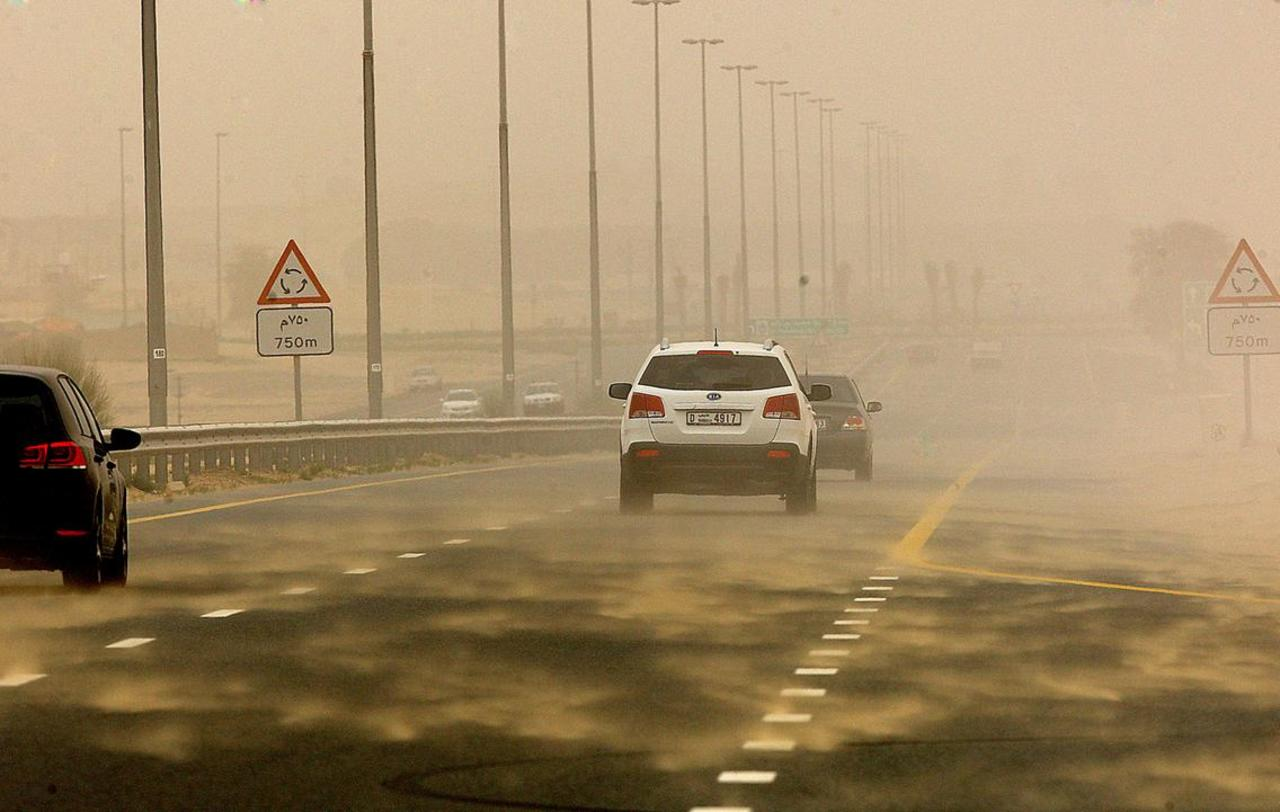car: (616, 334, 830, 512), (0, 365, 140, 586), (803, 371, 876, 477), (520, 381, 566, 415), (438, 387, 484, 420), (901, 336, 937, 365), (969, 341, 1003, 369), (408, 367, 443, 393)
